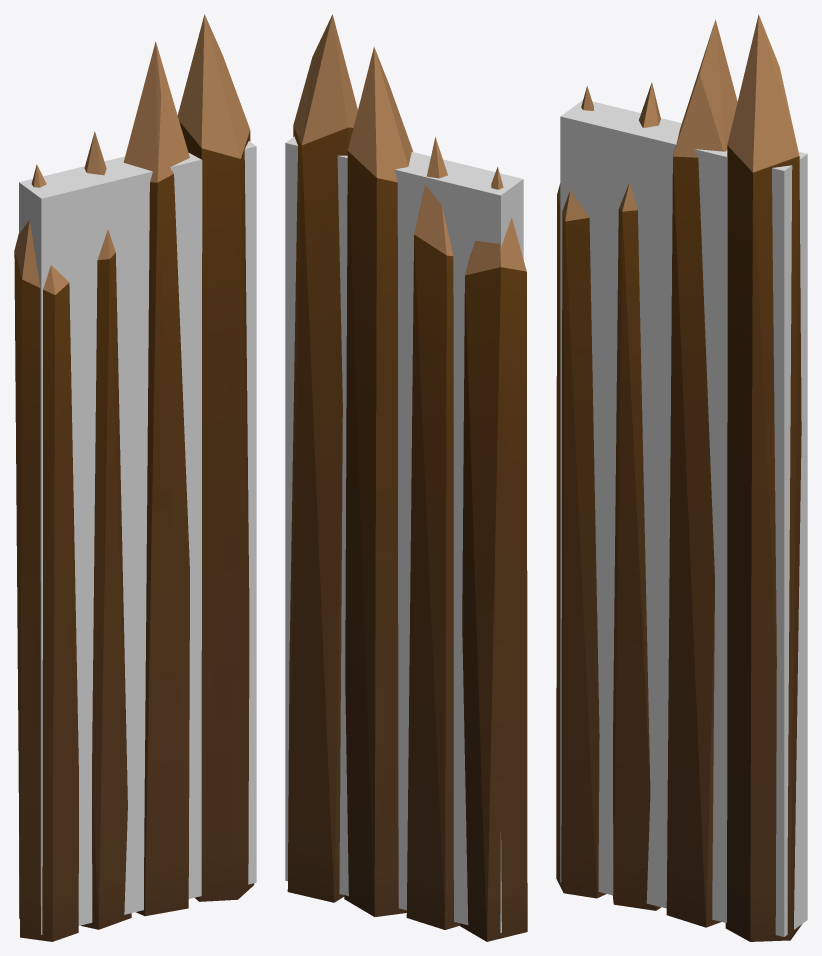
File: palisade_7.glb
The picture shows the model from 3 angles, left to right: view 1: azimuth 30°, elevation 25°; view 2: azimuth 150°, elevation 25°; view 3: azimuth 330°, elevation 25°; orthographic projection. The views are drawn at different scales.
Parts seen in each view (by area): view 1: FenceBig_07, Cube.001; view 2: FenceBig_07, Cube.001; view 3: FenceBig_07, Cube.001.
Part boxes in pixels (x1,y1,x2,y2): FenceBig_07: (14,14,254,941); Cube.001: (19,141,256,934); FenceBig_07: (287,14,527,941); Cube.001: (285,136,523,933); FenceBig_07: (556,14,801,941); Cube.001: (560,100,807,936).
Bounding box in the file's own units: 0.8732 × 3.14 × 0.2536.
Materials: 1 (1 with a texture image).
